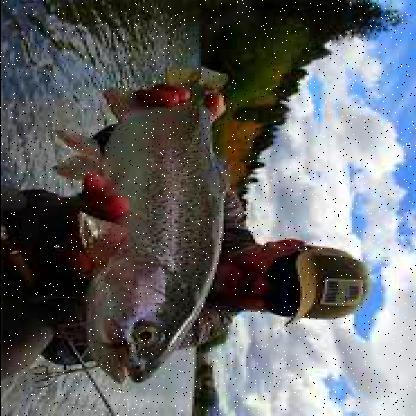fish: (56, 60, 232, 382)
